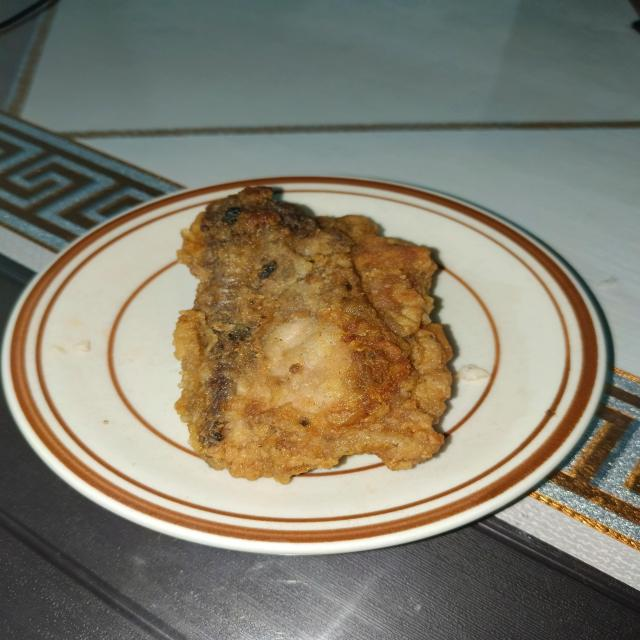Chicken -Fried Chicken-: (154, 172, 466, 521)
